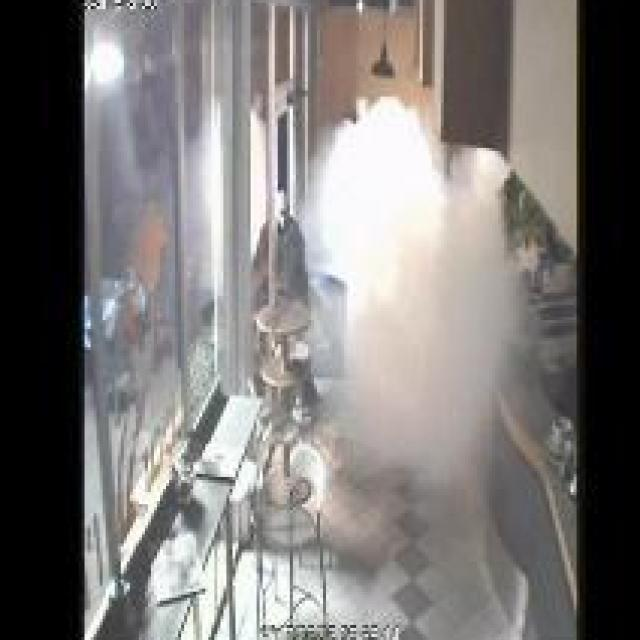fire: (310, 89, 522, 488)
